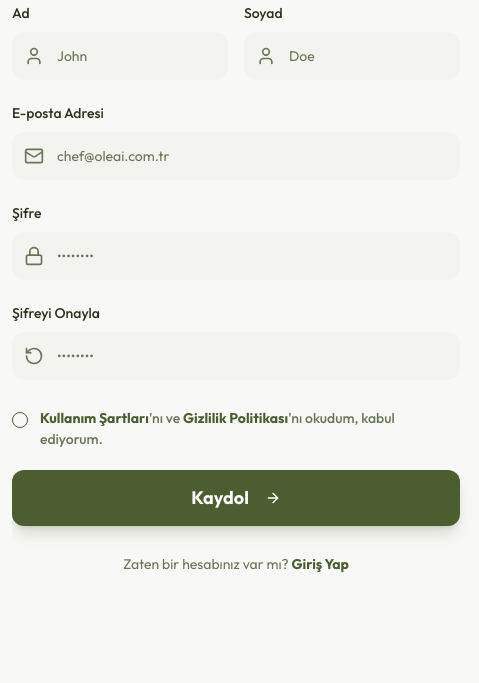
Test case: RegisterForm › shows validation errors for empty fields
The width and height of the screenshot is (479, 683).
Click the button "Kaydol": coordinates (236, 498) 12,470 -> 460,526
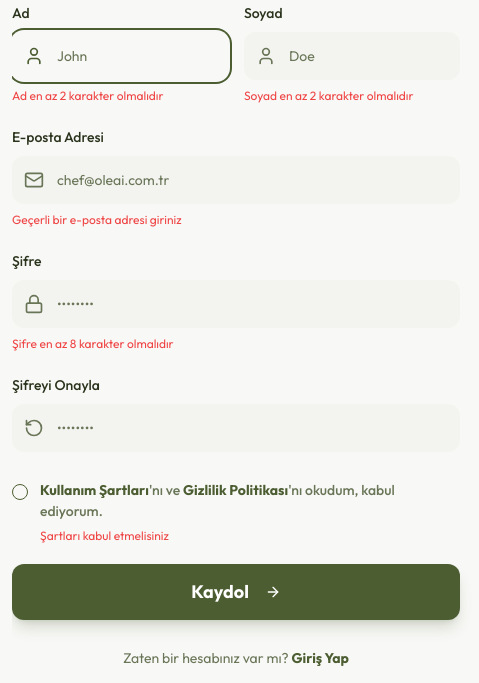
Expected: the text "Ad en az 2 karakter olmalıdır" is shown, 12,88 -> 164,103
Expected: the text "Soyad en az 2 karakter olmalıdır" is shown, 244,88 -> 414,103
Expected: the text "Geçerli bir e-posta adresi giriniz" is shown, 12,212 -> 182,227
